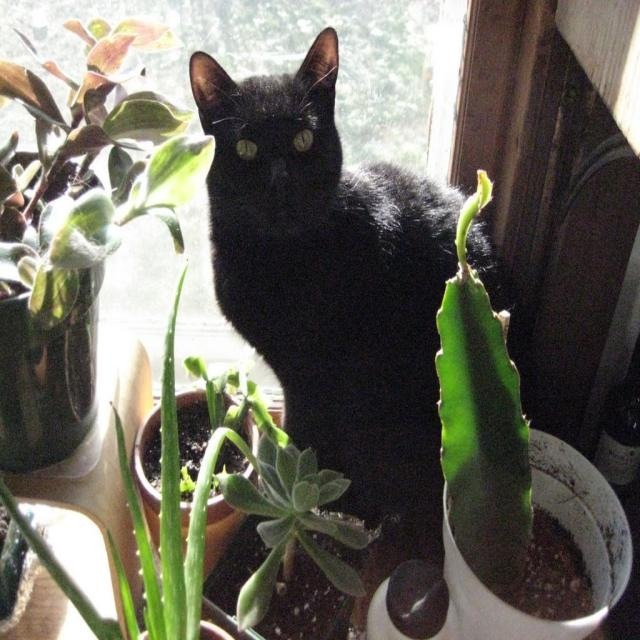Cat: (187, 24, 502, 478)
